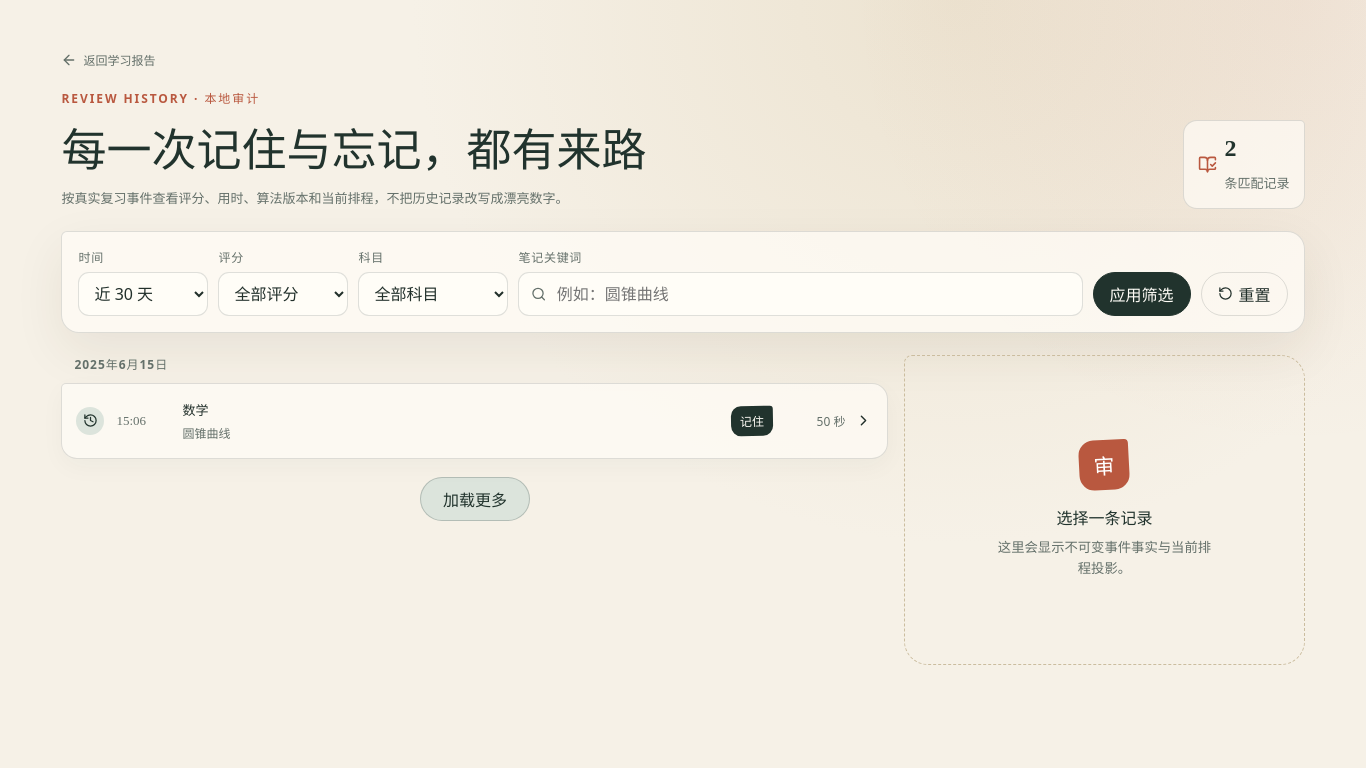
Test case: ReviewHistoryView › preserves existing rows when loading another page fails
Click the button "加载更多" at (475, 499), box [420,477,530,521]
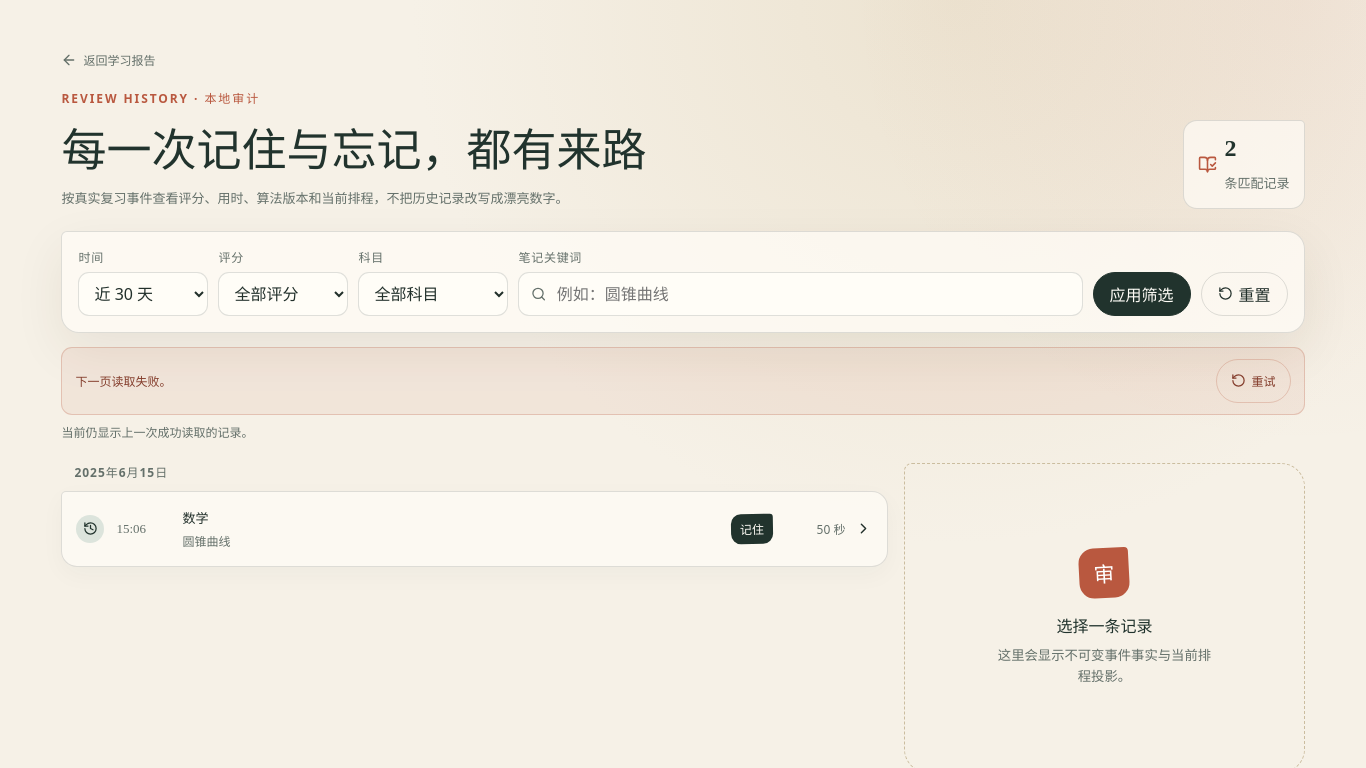
Expected: the button "15:06 数学 圆锥曲线 记住 50 秒" is shown, [62,491,888,567]
Result: the message "下一页读取失败。 重试" is shown at [62,347,1305,415]
Result: the text "当前仍显示上一次成功读取的记录。" is shown at [62,424,254,441]
